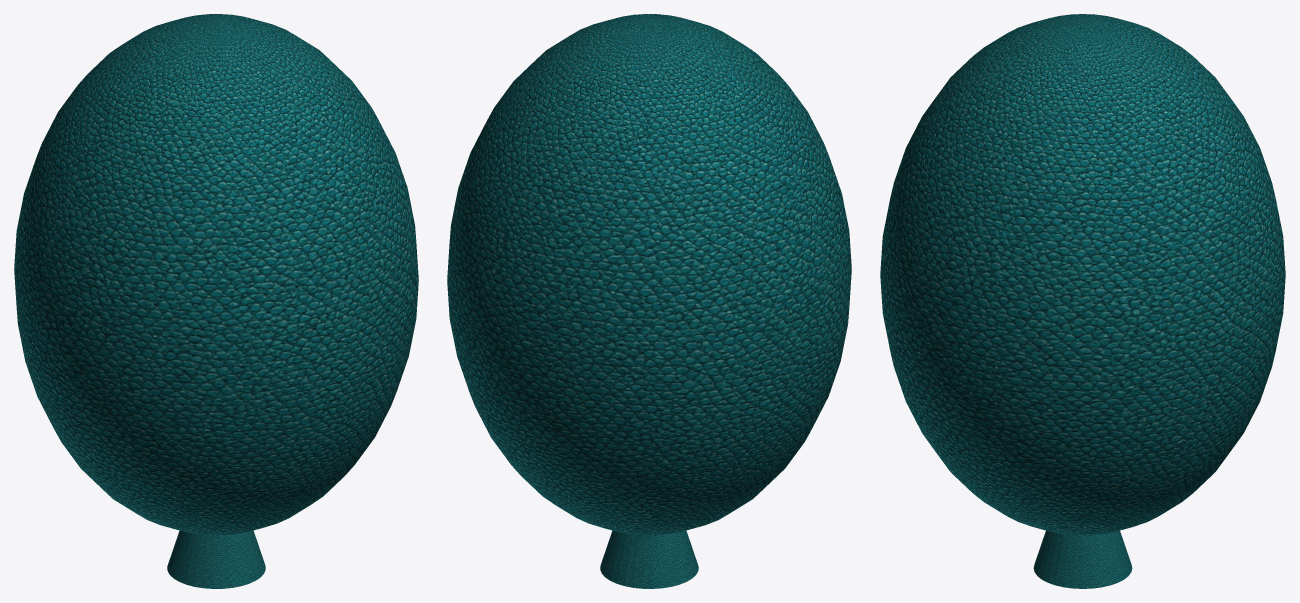
Rendered from balloon.glb.
3 renders of one model, left to right at view 1: azimuth 30°, elevation 25°; view 2: azimuth 150°, elevation 25°; view 3: azimuth 270°, elevation 25°, orthographic.
Visible parts, largest first — view 1: Balloon_Shell, Balloon_Neck; view 2: Balloon_Shell, Balloon_Neck; view 3: Balloon_Shell, Balloon_Neck.
Part boxes in pixels (x1,y1,x2,y2): Balloon_Shell: (14,14,418,535); Balloon_Neck: (167,530,265,588); Balloon_Shell: (447,14,851,535); Balloon_Neck: (600,530,698,588); Balloon_Shell: (880,14,1285,535); Balloon_Neck: (1033,530,1132,588).
Size of the model in its own units: 0.7392 by 1.09 by 0.7392.
Materials: 2 (2 with a texture image).
